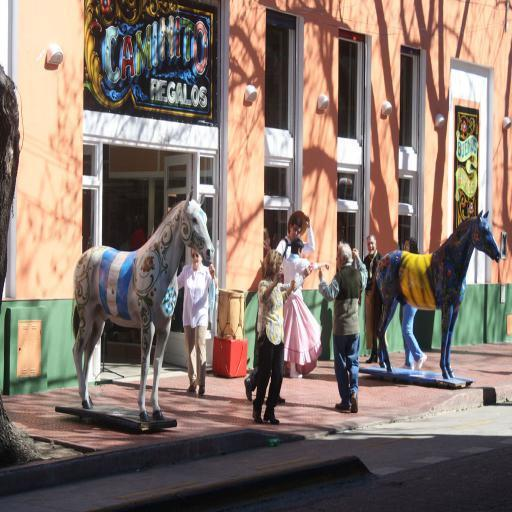horse: (69, 192, 213, 420), (372, 207, 504, 372)
